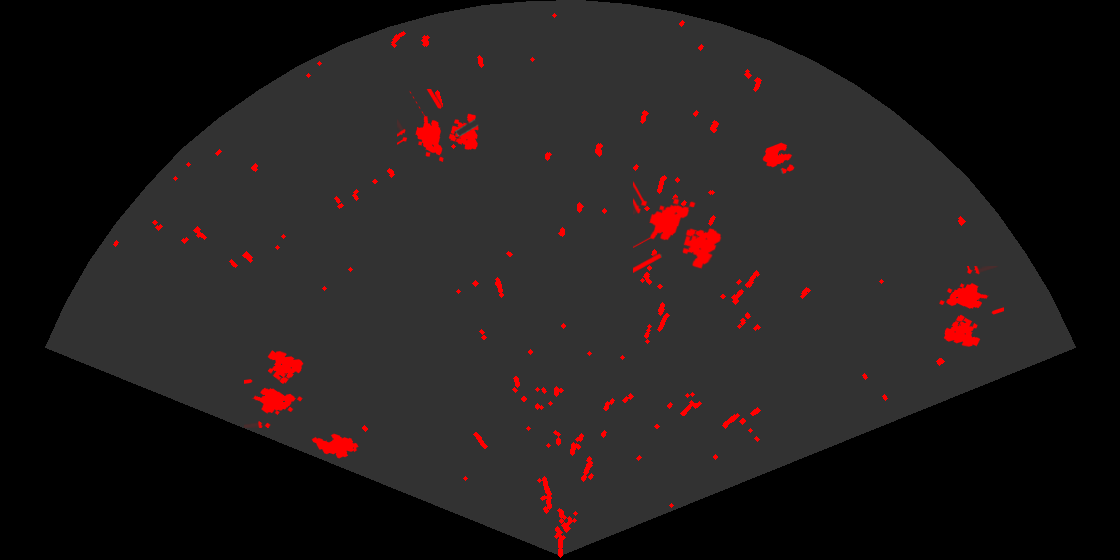AUV: (310, 432, 360, 460)
ball: (761, 141, 796, 175)
cage: (633, 180, 723, 275), (397, 89, 481, 164), (938, 266, 1004, 349), (244, 349, 305, 428)
